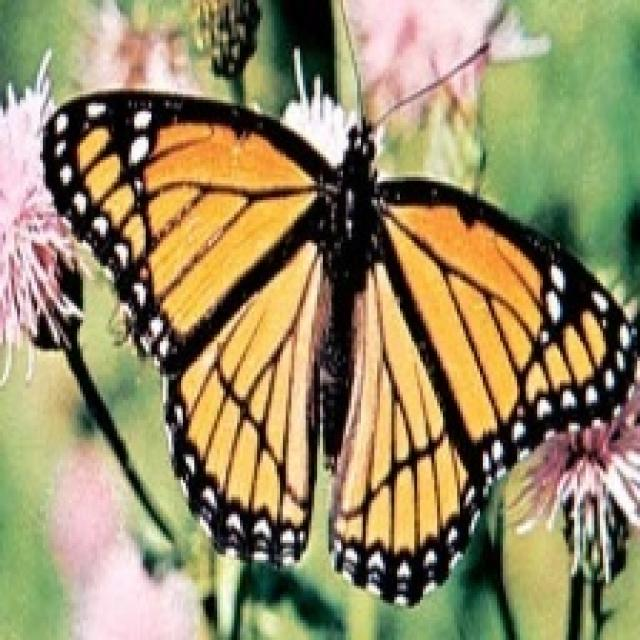butterfly: (37, 0, 637, 609)
